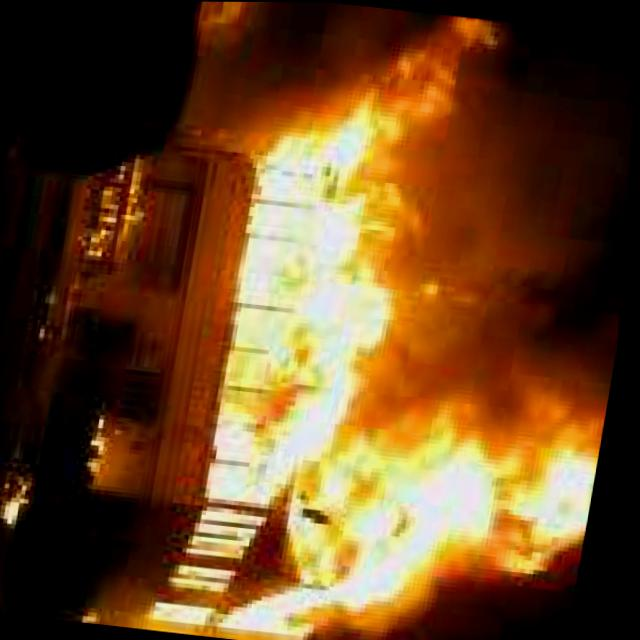fire: (144, 1, 640, 640), (84, 163, 161, 269), (8, 466, 52, 526), (91, 401, 124, 473), (89, 602, 128, 626)
